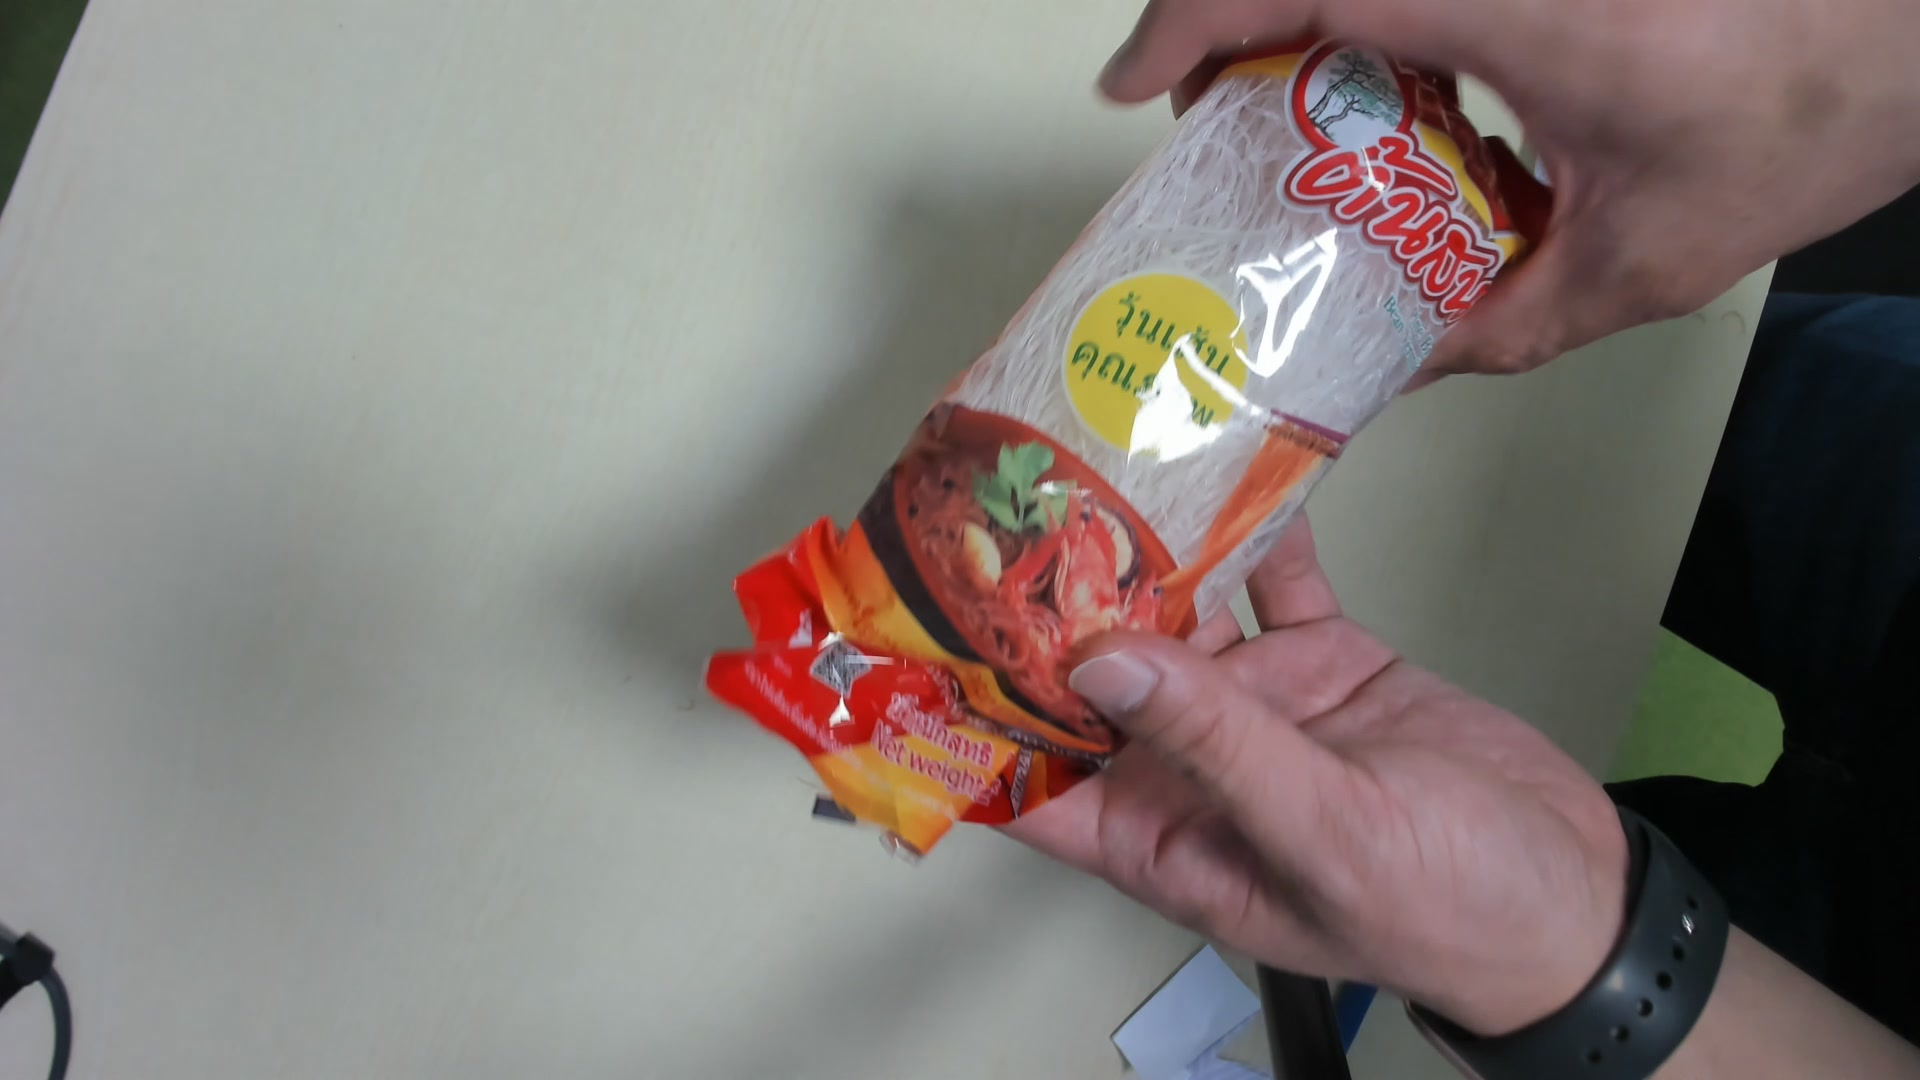BeeHoonVermicelli_0-99g_Halal_NonHealthy: (707, 9, 1553, 868)
